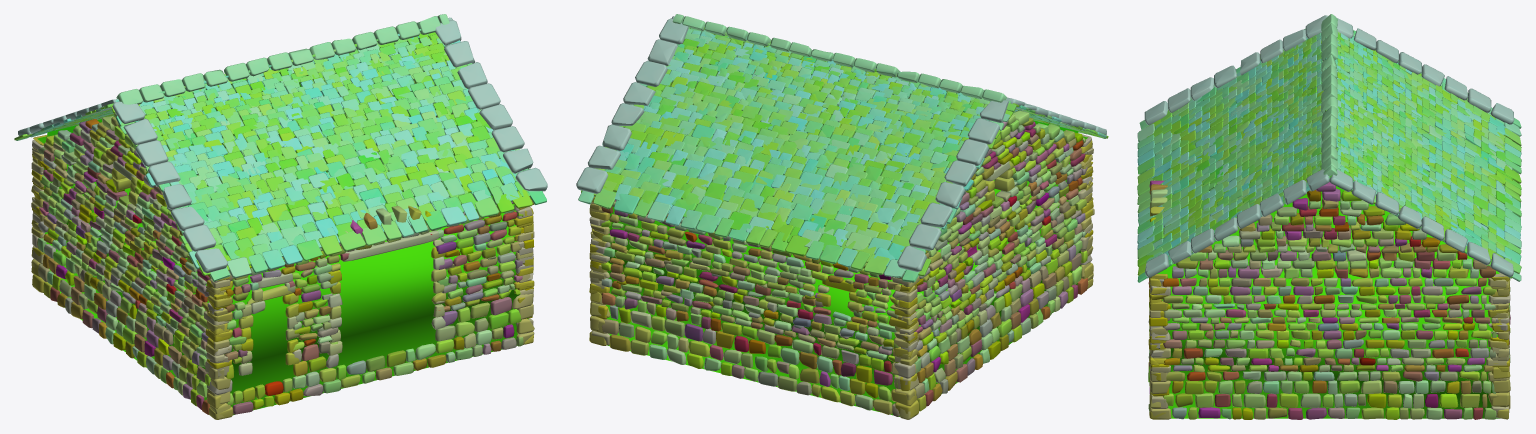
The model's file is SM_Barn_07.glb.
3 views of the same model, side by side, from view 1: azimuth 30°, elevation 25°; view 2: azimuth 150°, elevation 25°; view 3: azimuth 270°, elevation 25° (orthographic). The views are drawn at different scales.
Visible parts, largest first — view 1: SM_Barn_07; view 2: SM_Barn_07; view 3: SM_Barn_07.
Part boxes in pixels (bbox=[...]): SM_Barn_07: bbox=[14, 14, 547, 419]; SM_Barn_07: bbox=[576, 14, 1108, 419]; SM_Barn_07: bbox=[1137, 14, 1521, 419].
Size of the model in its own units: 9.77 by 7.02 by 9.61.
